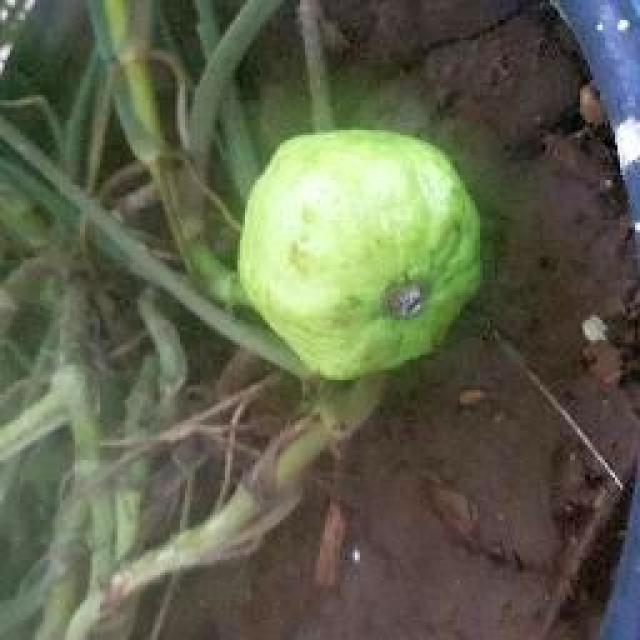Good_Guava: (235, 130, 485, 385)
